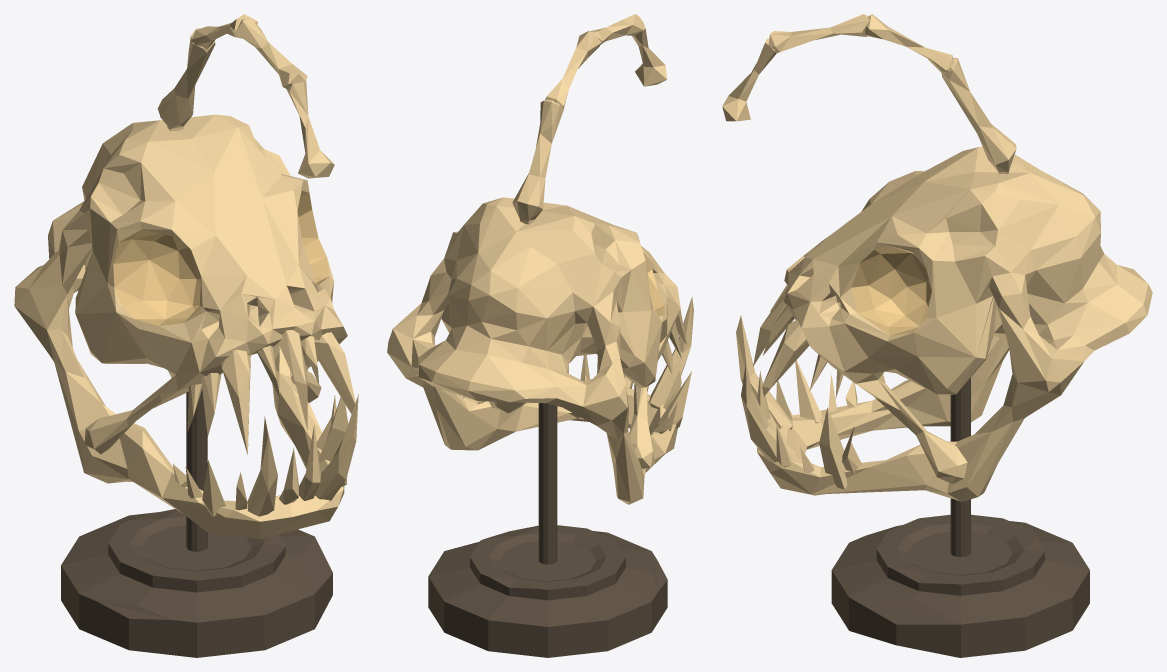
File: Fish_Head_Stand_004.fbx
3 renders of one model, left to right at view 1: azimuth 30°, elevation 25°; view 2: azimuth 150°, elevation 25°; view 3: azimuth 270°, elevation 25°, orthographic. The views are drawn at different scales.
Parts seen in each view (by area): view 1: Fish_Head_Stand_004; view 2: Fish_Head_Stand_004; view 3: Fish_Head_Stand_004.
Part boxes in pixels (box(x1,y1,x2,y2)): Fish_Head_Stand_004: box(14, 14, 358, 657); Fish_Head_Stand_004: box(387, 14, 693, 657); Fish_Head_Stand_004: box(722, 14, 1152, 657).
Size of the model in its own units: 0.4489 by 0.9748 by 0.6455.
